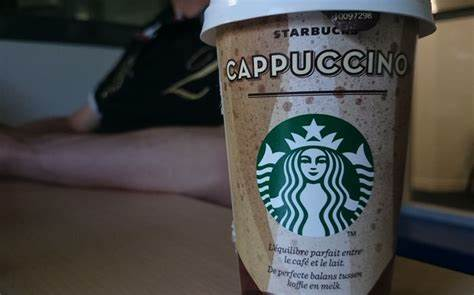starbucks Originale: (251, 105, 384, 242)
